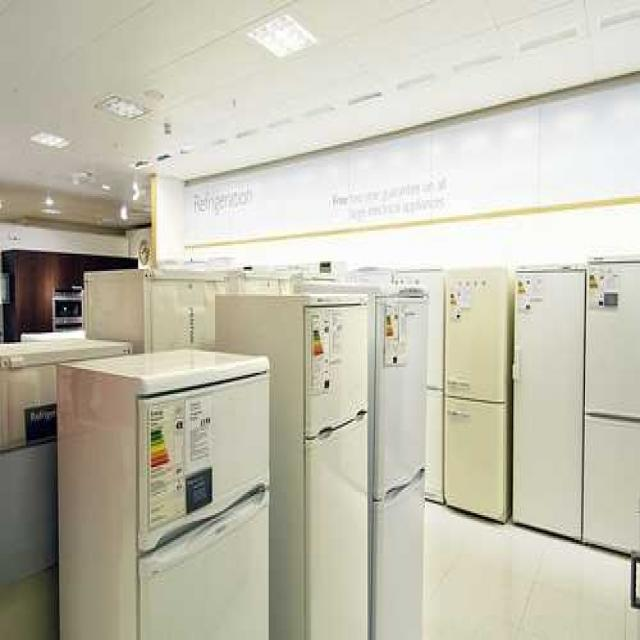refrigerator: (298, 293, 368, 640), (511, 267, 586, 535), (372, 294, 429, 640), (440, 274, 512, 513), (588, 255, 640, 559), (396, 266, 440, 506), (142, 268, 222, 352)
